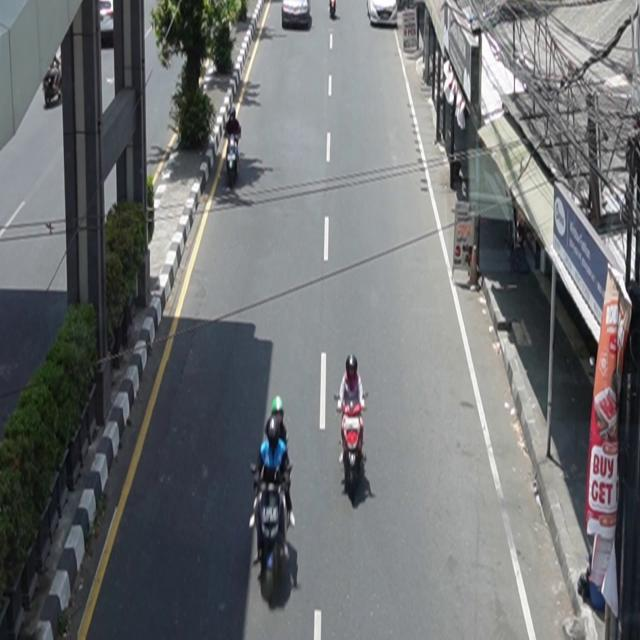car: (282, 1, 312, 30), (367, 1, 399, 28)
